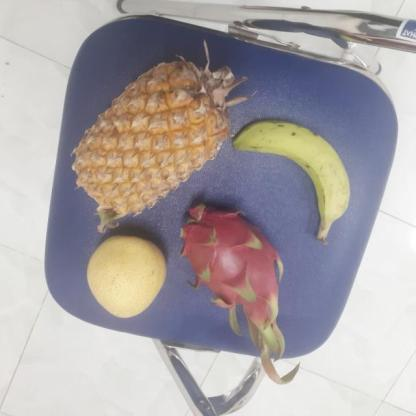banana: (233, 119, 353, 240)
pear: (86, 234, 173, 318)
pineapple: (82, 63, 240, 218)
pitaya: (179, 203, 285, 318)
